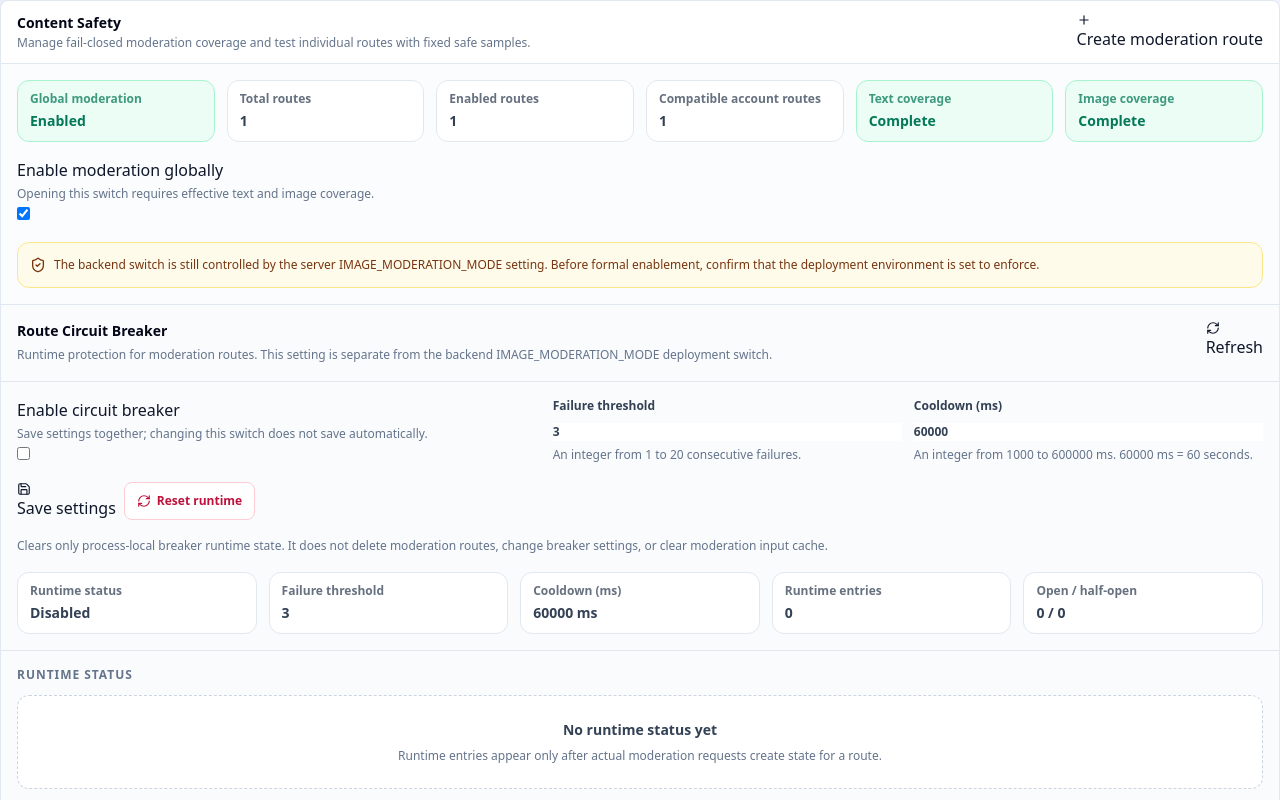
it: admin moderation section › keeps shared drawer dialog semantics and moderation content
Click the button "Create moderation route": x=1170, y=32 [1077,13,1263,51]
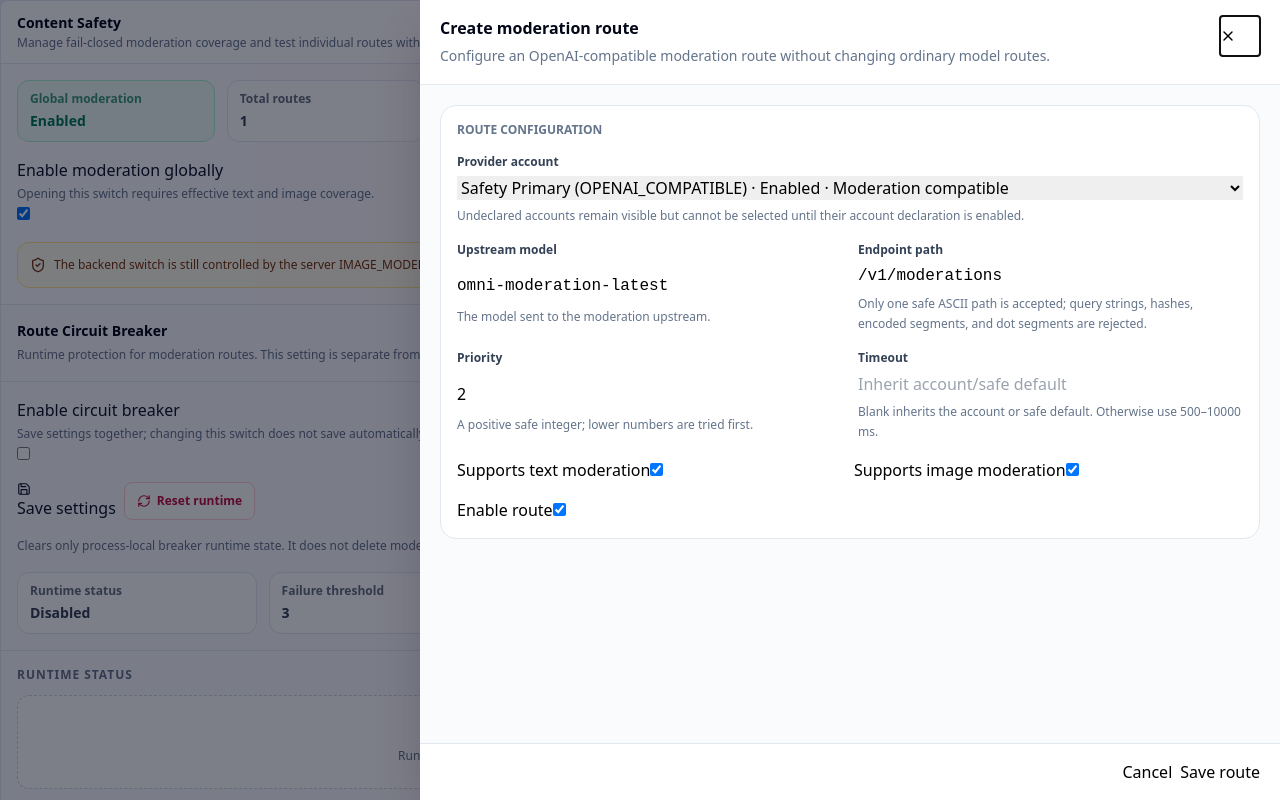
Expected: the dialog is shown
Expected: the dialog shows "Route configuration", [457,121,602,138]
Expected: the dialog shows "Create moderation route", [440,17,639,39]
